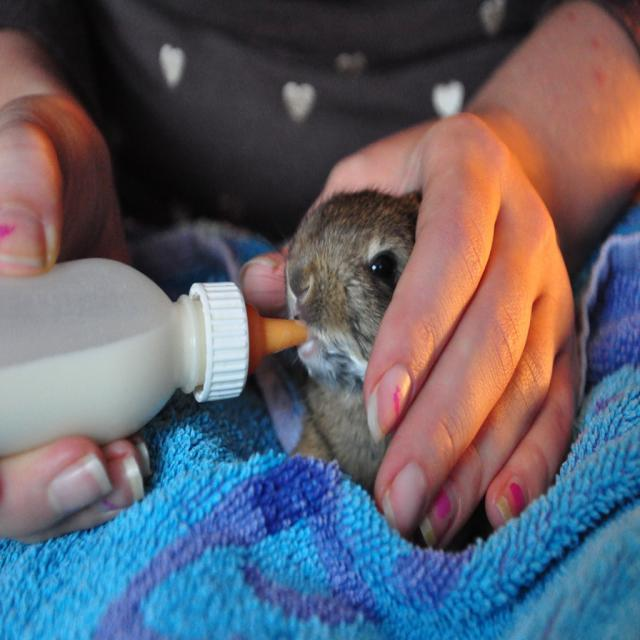rat: (288, 192, 426, 494)
